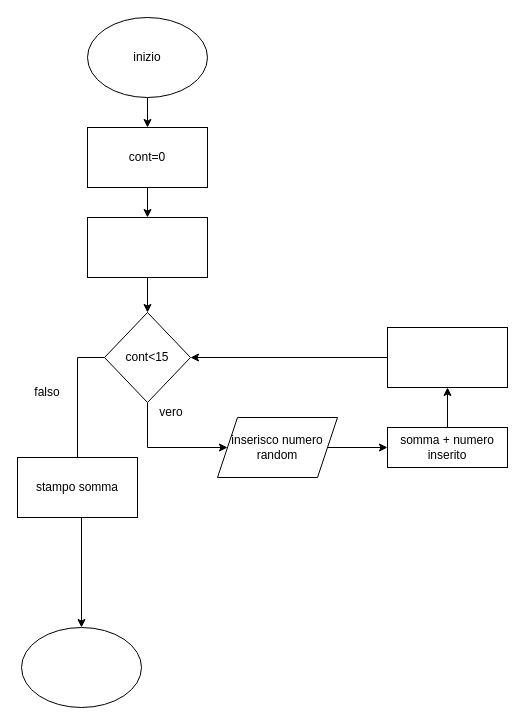
Image size: 525x725. Some labels were removed from this diagram. The centre of each missing label's shape, as x and y in pixels:
cont+1: (447,357)
fine: (81,667)
somma=0: (147,247)
